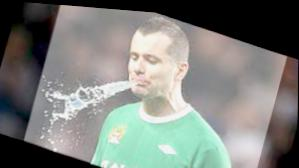spitting: (21, 1, 288, 167)
